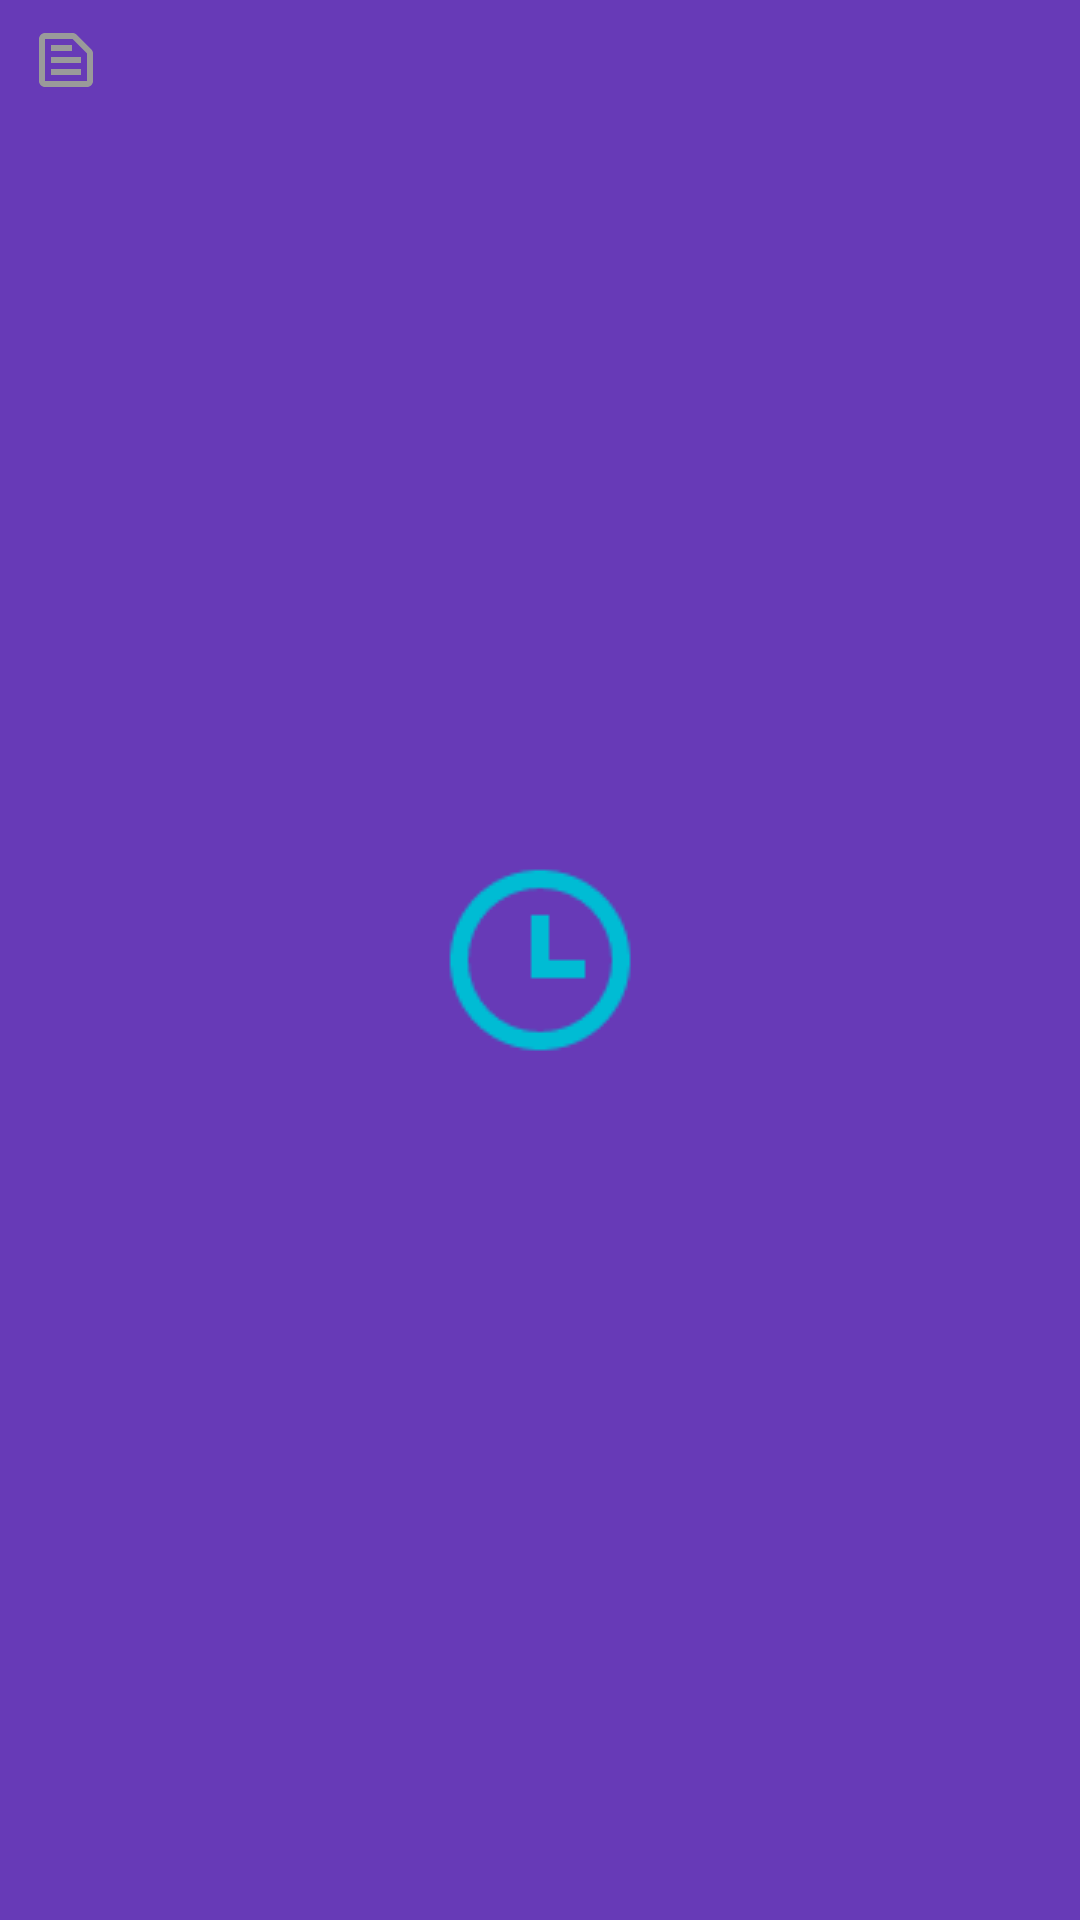

Locate icon controls on the screen. Image size 1080px×1920px, boxes as (x1, y1, x2, y2).
text snippet: (39, 33, 93, 87)
